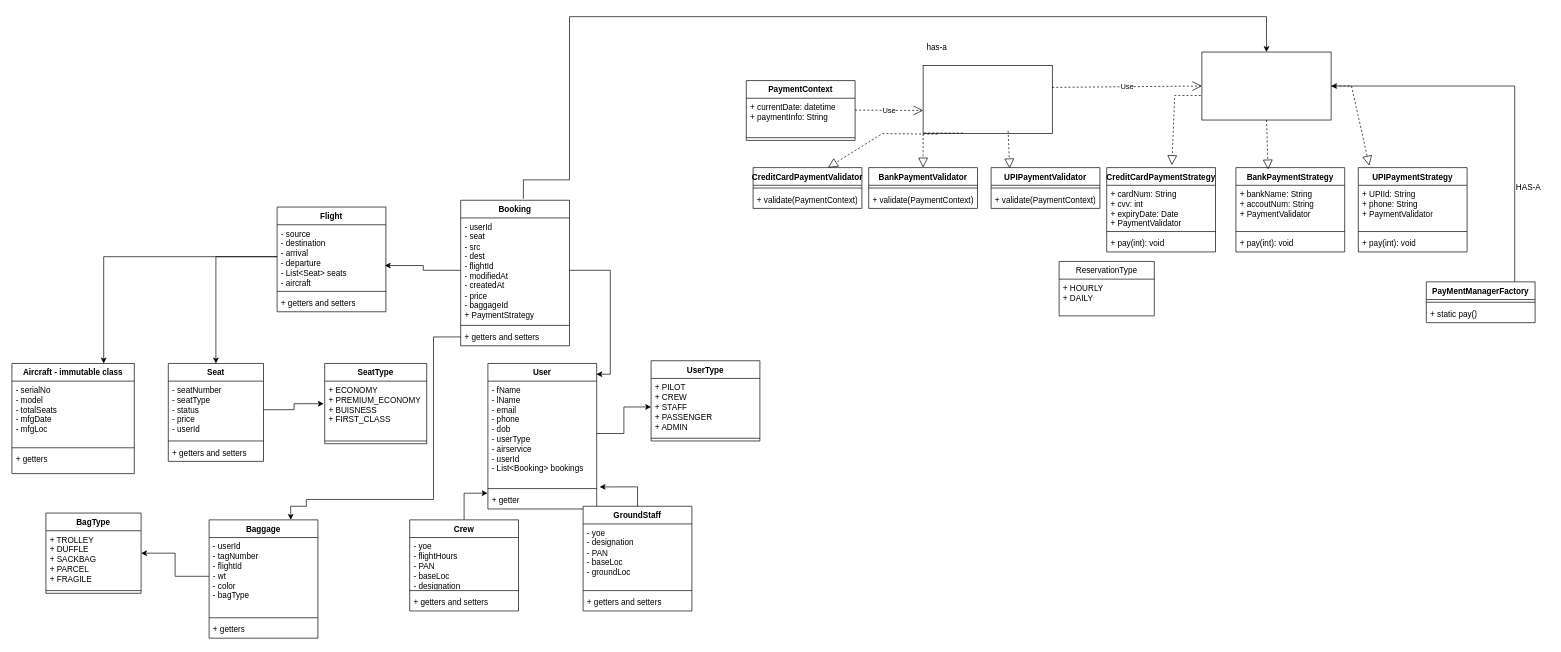
This 1561x652 diagram has some shape labels left out. The centre of each missing label's shape, as x and y in pixels:
"<<Interface>> PaymentStrategy + pay(int): void" goes at [1266,85].
"<<Interface>> PaymentValidatorStrategy + validate(PaymentContext)" goes at [987,99].
